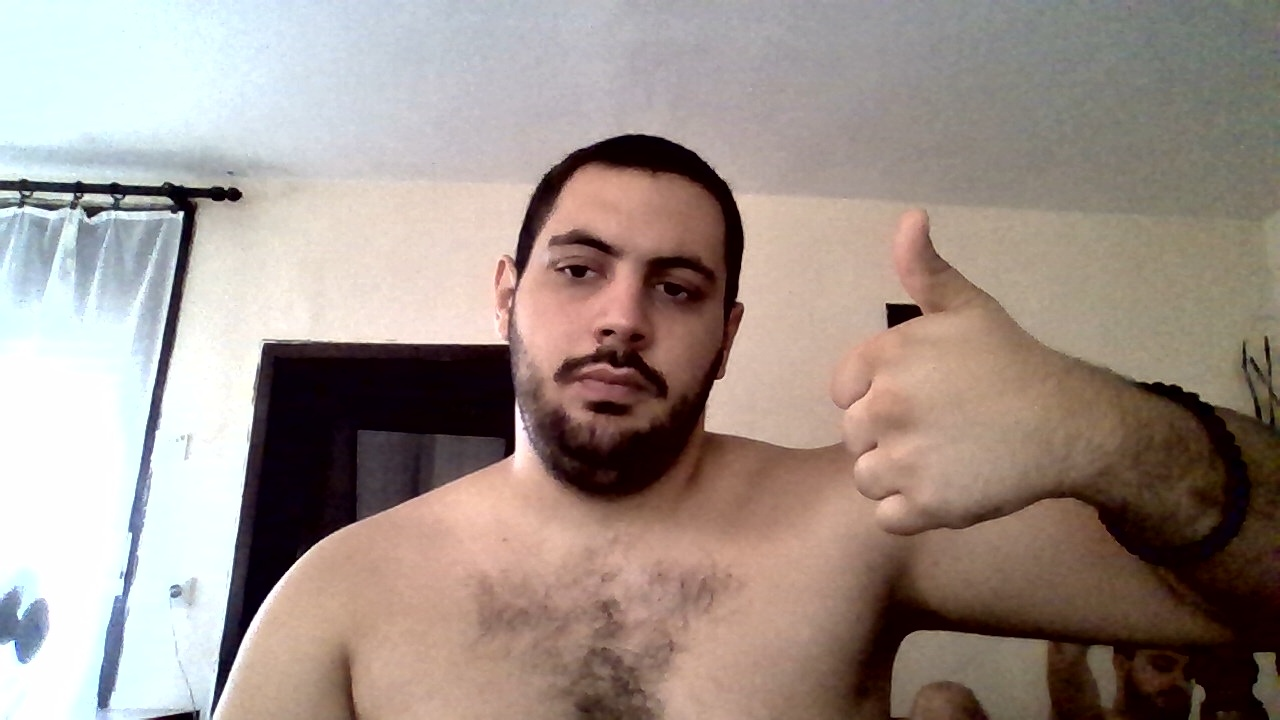like: (818, 206, 1016, 538)
